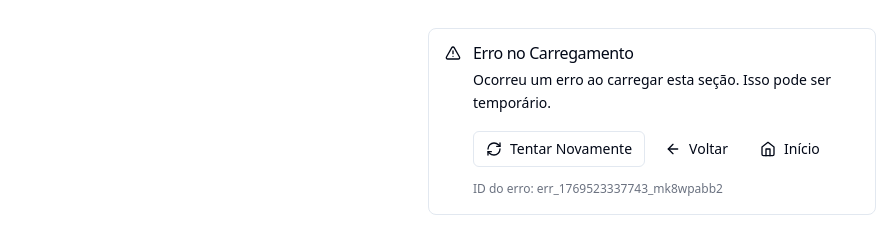
Test case: Testes Funcionais Preventivos › ErrorBoundary Functionality › deve permitir recuperação após erro
Expected: the heading "Erro no Carregamento" is shown, [473,42,634,64]
Note: Clicar em tentar novamente
What coordinates should you click on to do the following:
click the button "Tentar Novamente"
I would click on:
 (559, 148)
Its box is [473,130,645,166].
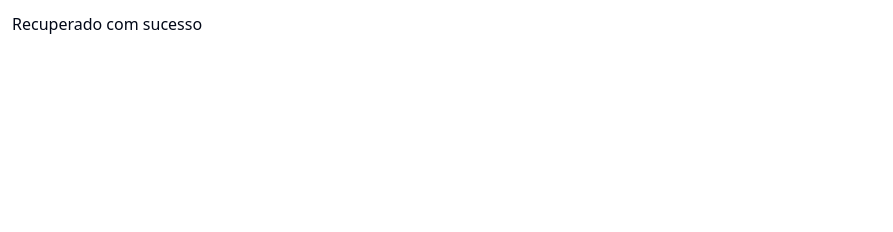
Expected: the heading "Erro no Carregamento" is gone
